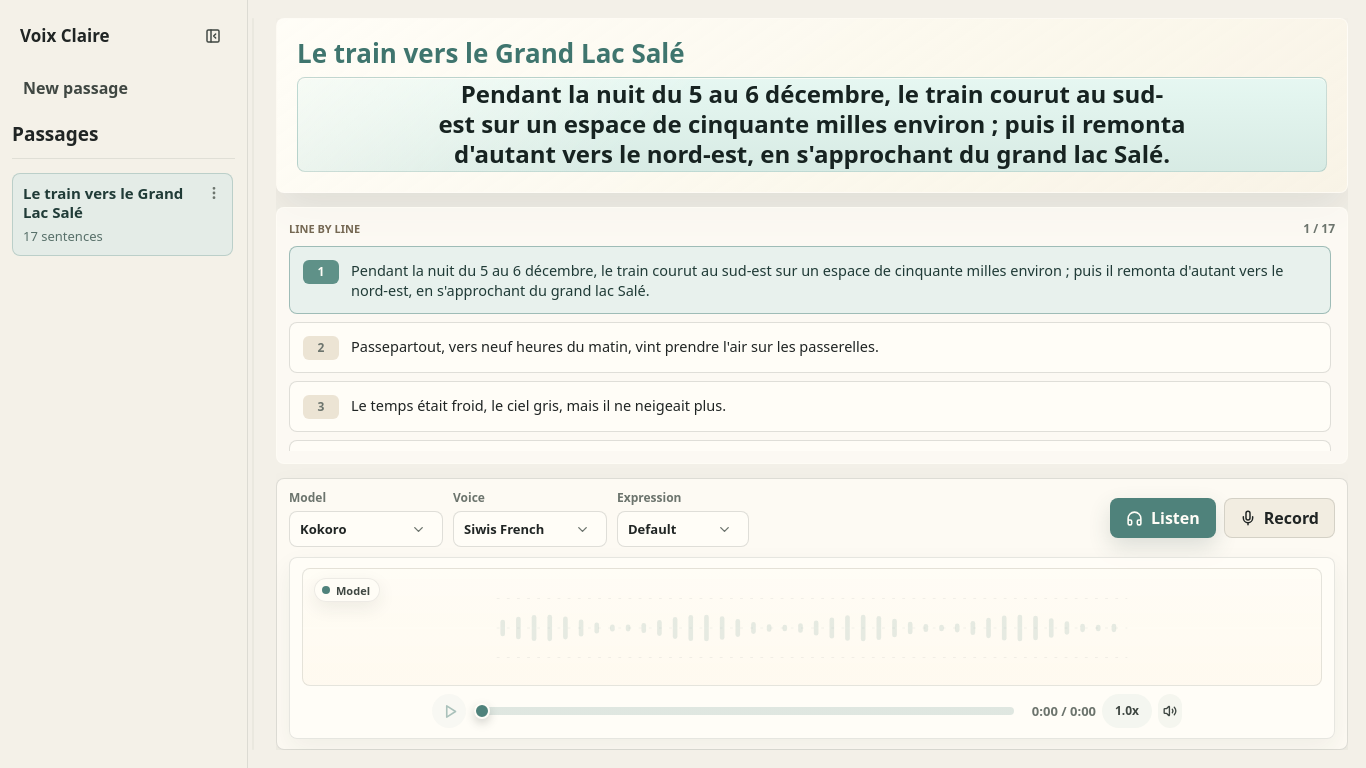
Test: App › keeps New passage as a dedicated creation screen
Click the button "New passage".
click(124, 89)  # box [12, 70, 235, 108]
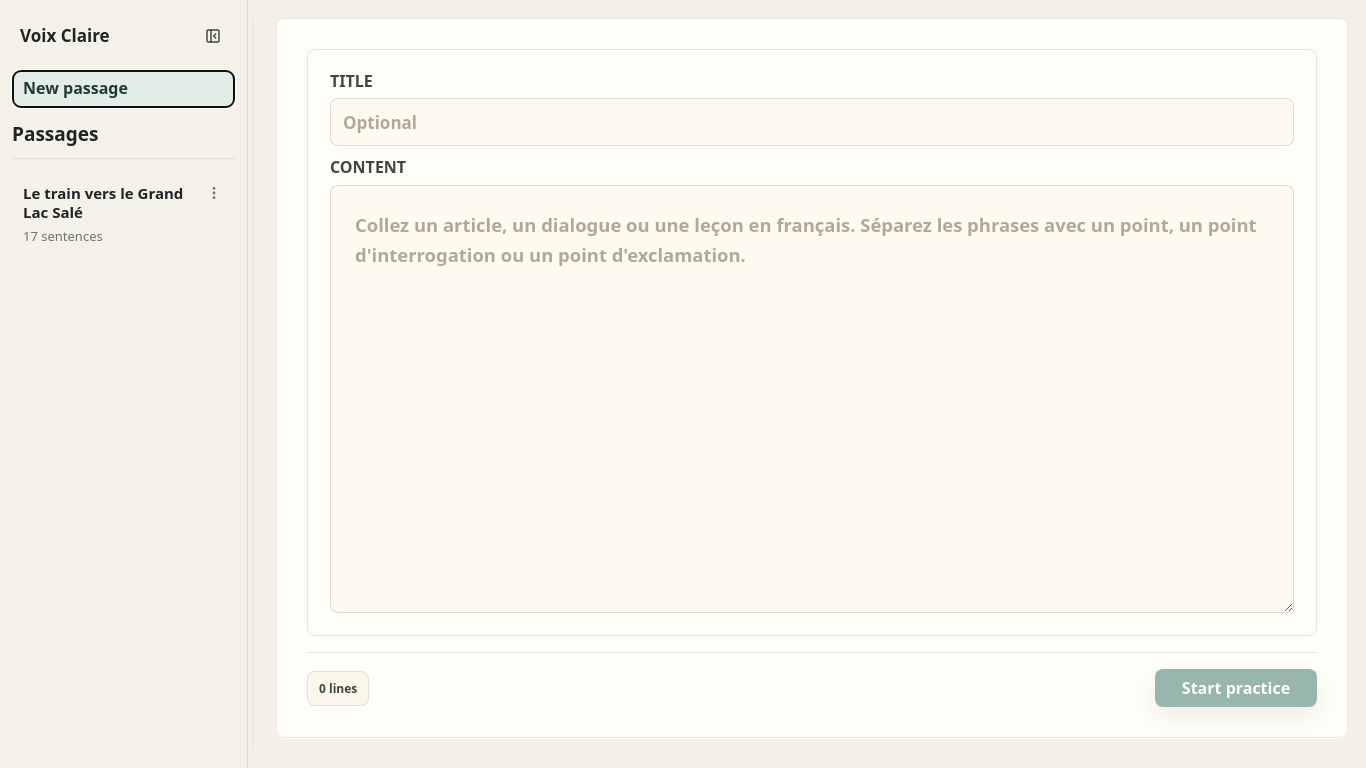
Check: the field labelled "Title" is shown, box [330, 98, 1294, 146]
Check: the text box labelled "Content" is shown, box [330, 185, 1294, 613]
Check: the text "Pendant la nuit du 5 au 6 décembre" is gone
